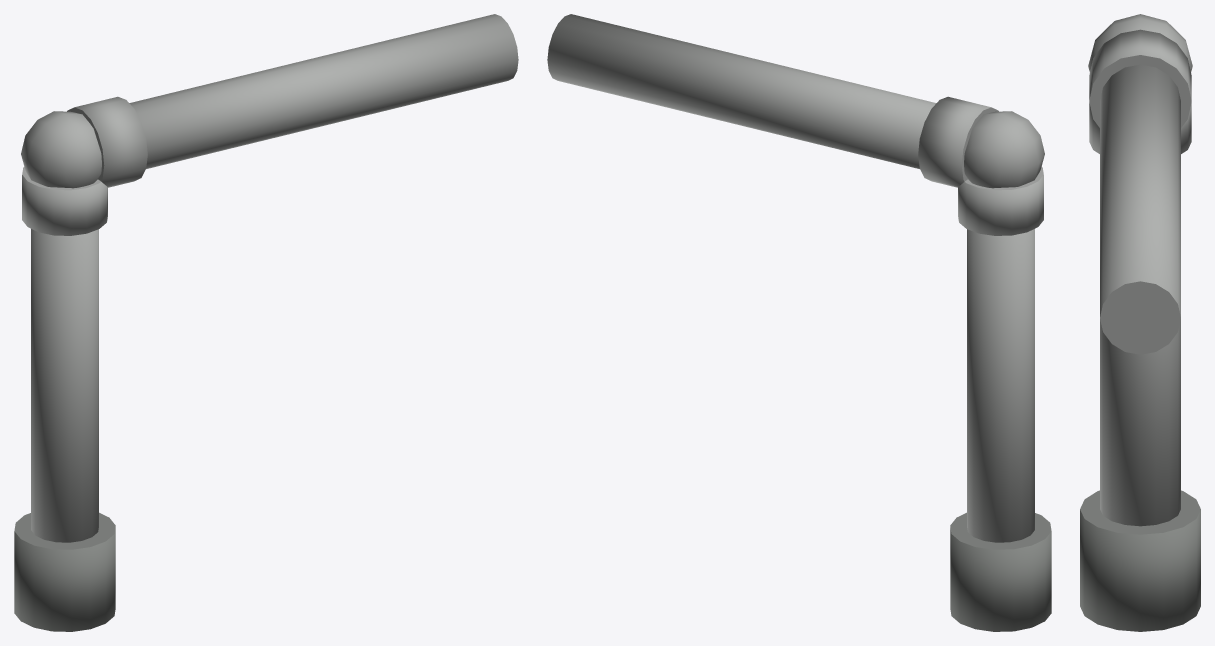
The model's file is pipe_m03_x1.obj.
3 renders of one model, left to right at view 1: azimuth 30°, elevation 25°; view 2: azimuth 150°, elevation 25°; view 3: azimuth 270°, elevation 25°, orthographic. The views are drawn at different scales.
Visible parts, largest first — view 1: pipe2, pipe1, sleeve1, fitting_hub, fitting_socket1, fitting_socket2; view 2: pipe2, pipe1, sleeve1, fitting_hub, fitting_socket1, fitting_socket2; view 3: pipe2, pipe1, sleeve1, fitting_socket2, fitting_hub, fitting_socket1.
Boxes of the visible parts, x1,y1,x2,y2 form: pipe2: (129,14,518,168); pipe1: (31,229,98,542); sleeve1: (14,512,115,631); fitting_hub: (21,111,101,188); fitting_socket1: (22,167,107,235); fitting_socket2: (67,96,147,187); pipe2: (547,14,936,168); pipe1: (967,229,1034,542); sleeve1: (950,512,1051,631); fitting_hub: (964,111,1044,188); fitting_socket1: (958,167,1043,235); fitting_socket2: (918,96,998,187); pipe2: (1100,64,1180,354); pipe1: (1100,319,1180,526); sleeve1: (1080,490,1200,631); fitting_socket2: (1089,29,1191,127); fitting_hub: (1088,14,1192,71); fitting_socket1: (1089,103,1191,153).
Bounding box in the file's own units: 0.5507 × 0.5439 × 0.1014.
Materials: 2 (2 with a texture image).
